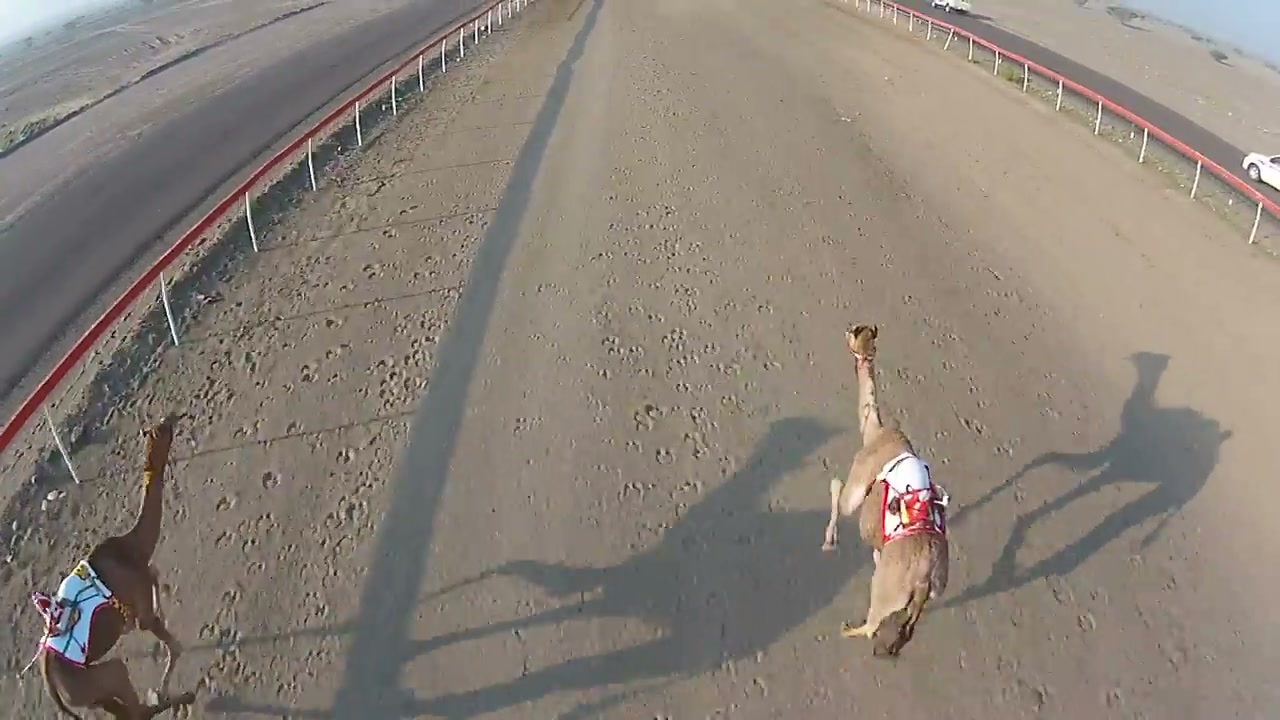animal_footprint: (173, 247, 468, 719)
